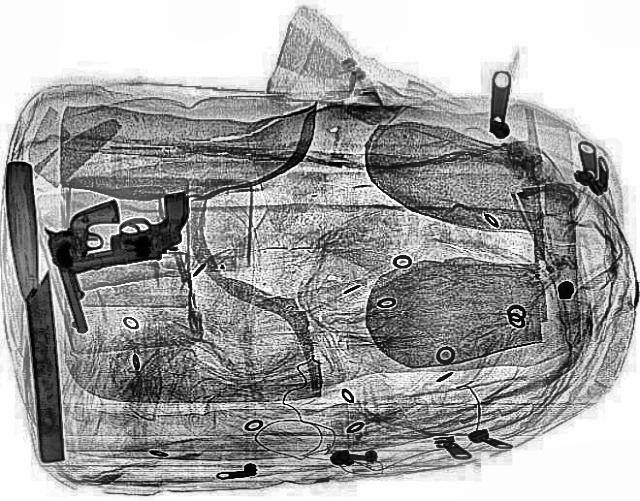Gun: (30, 198, 156, 334), (50, 190, 206, 274)
Knife: (0, 159, 68, 462)
